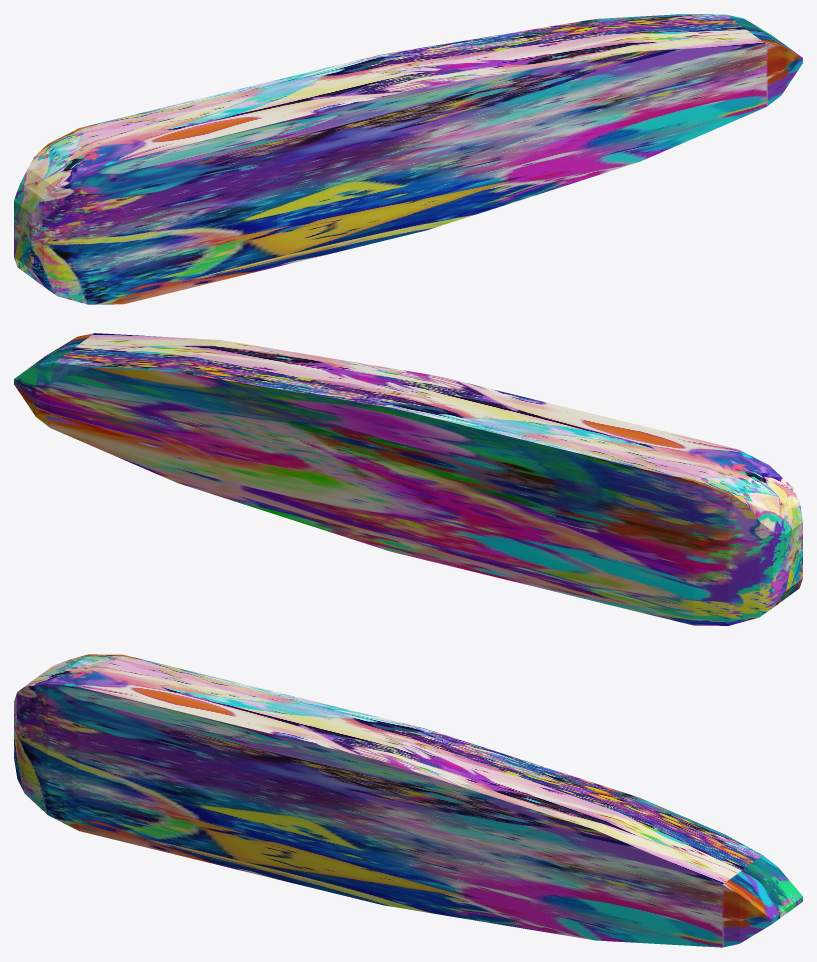
Rendered from flipperizq.obj.
The picture shows the model from 3 angles, top to bottom: view 1: azimuth 30°, elevation 25°; view 2: azimuth 150°, elevation 25°; view 3: azimuth 330°, elevation 25°; orthographic projection.
Parts seen in each view (by area): view 1: manillaizq; view 2: manillaizq; view 3: manillaizq.
Part boxes in pixels (x1,y1,x2,y2): manillaizq: (14,14,802,304); manillaizq: (14,333,802,625); manillaizq: (14,654,802,947).
Bounding box in the file's own units: 1 × 0.18 × 0.1.
